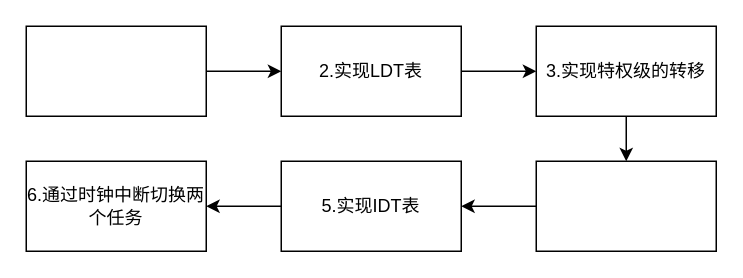
Some shapes in this 743 by 278 pixel diagram are drawn without their labels. The shapes that lost their labels are listed below. From the top down, each one's centre as x and y in pixels, then its label:
(x=115, y=70): 1.实现实模式到保护模式的跳转
(x=625, y=205): 4.实现分页机制
